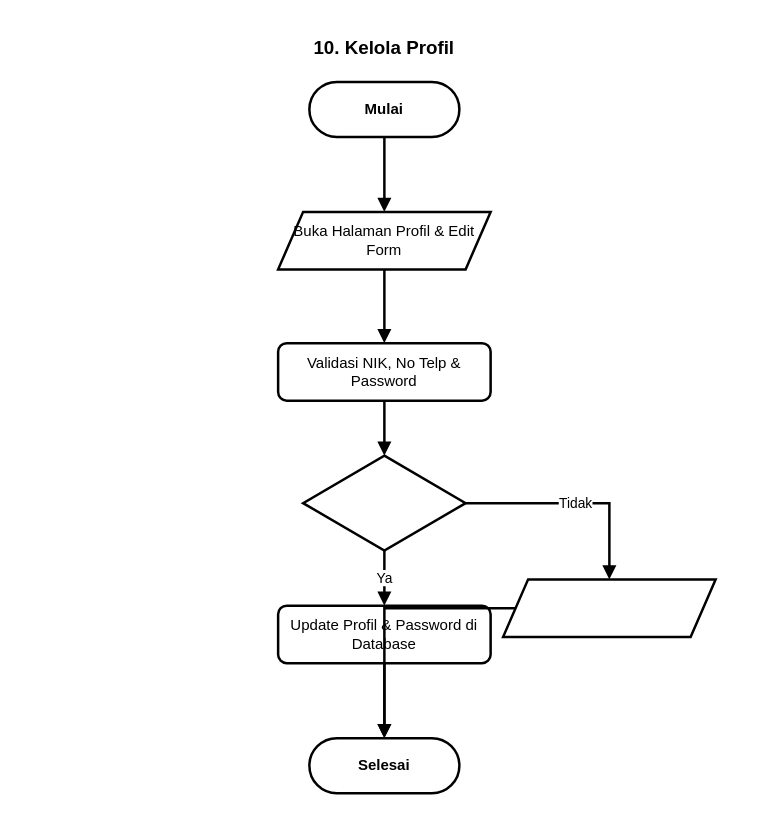
The diagram is 768 pixels wide and 815 high, and some of its shapes have lost their labels. The centre of each missing label's shape, as x and y in pixels:
Data Valid?: the point at 383,502
Tampilkan Notifikasi Error Form: the point at 608,608
